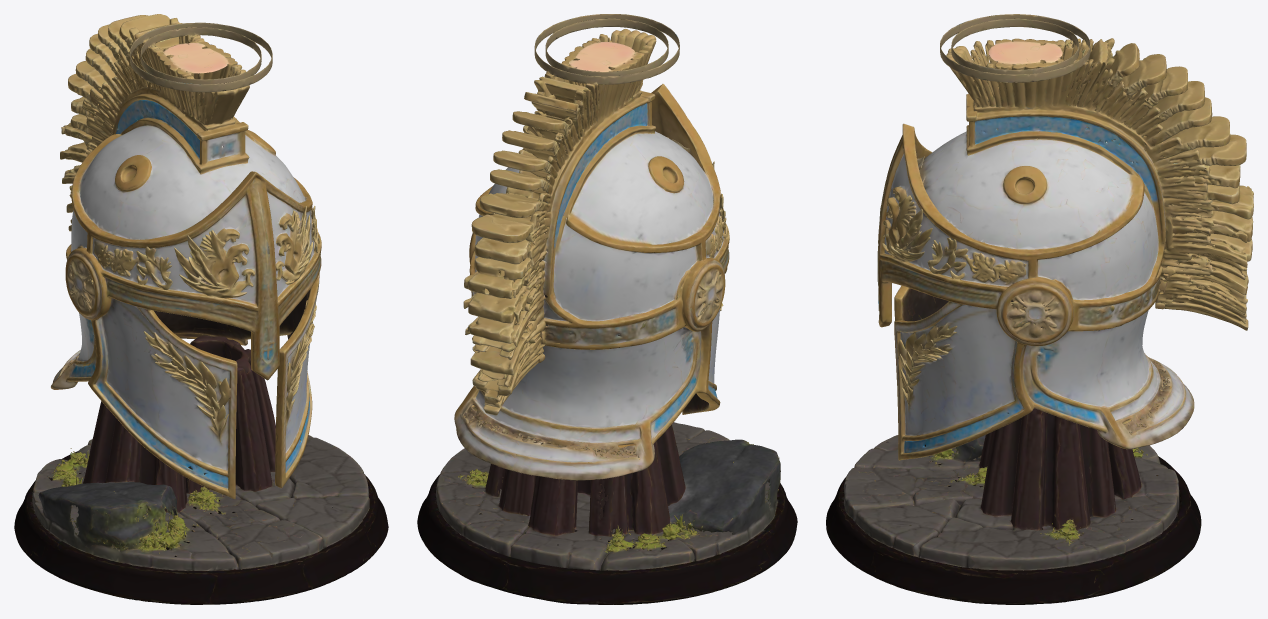
The model's file is sample_2026-08-16T153845.215.glb.
3 views of the same model, side by side, from view 1: azimuth 30°, elevation 25°; view 2: azimuth 150°, elevation 25°; view 3: azimuth 270°, elevation 25° (orthographic).
Visible parts, largest first — view 1: geometry_0; view 2: geometry_0; view 3: geometry_0.
Boxes of the visible parts, x1,y1,x2,y2 form: geometry_0: [14, 14, 388, 604]; geometry_0: [417, 14, 797, 604]; geometry_0: [826, 14, 1253, 604].
Bounding box in the file's own units: 0.7162 × 0.9997 × 0.8043.
1 material, 1 textured.
